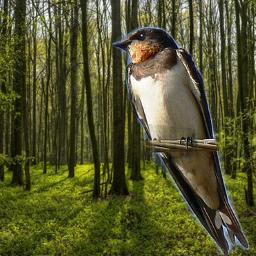Swallow: (111, 26, 249, 255)
